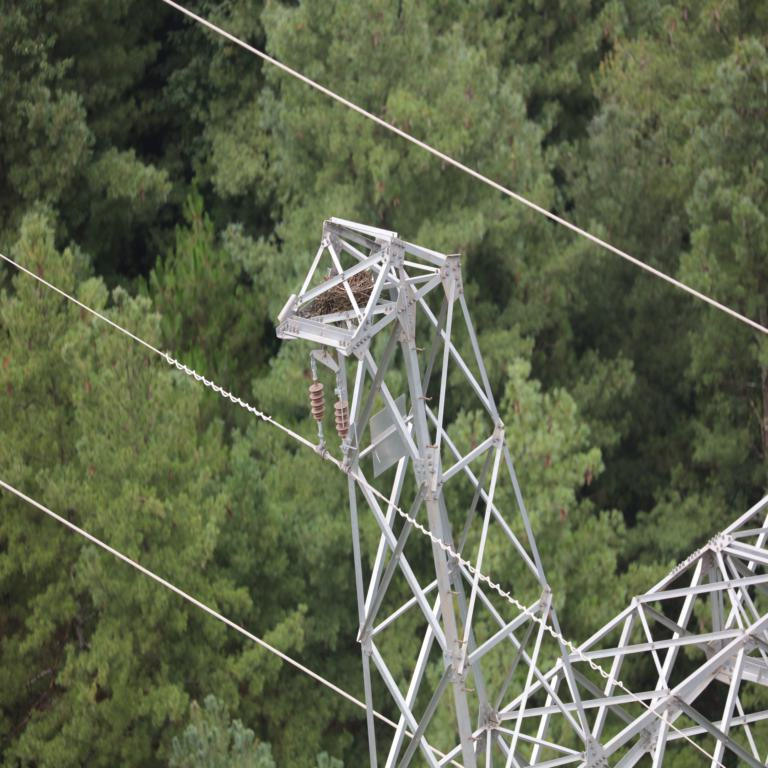nest: (311, 274, 382, 309)
